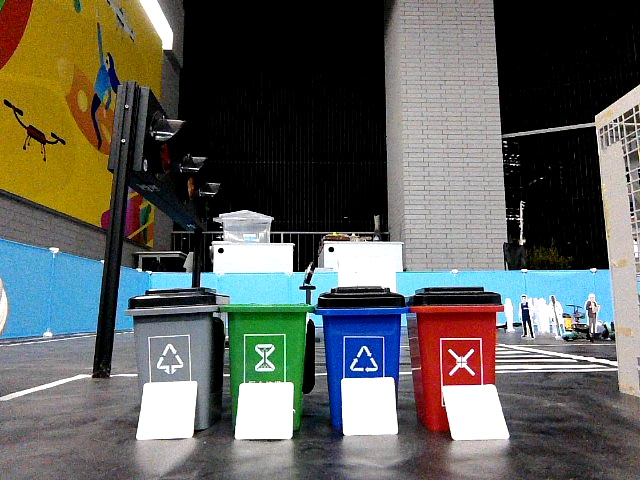blue_close: (321, 286, 398, 373)
green_open: (230, 303, 303, 378)
grey_close: (135, 289, 212, 378)
red_close: (414, 288, 494, 379)
